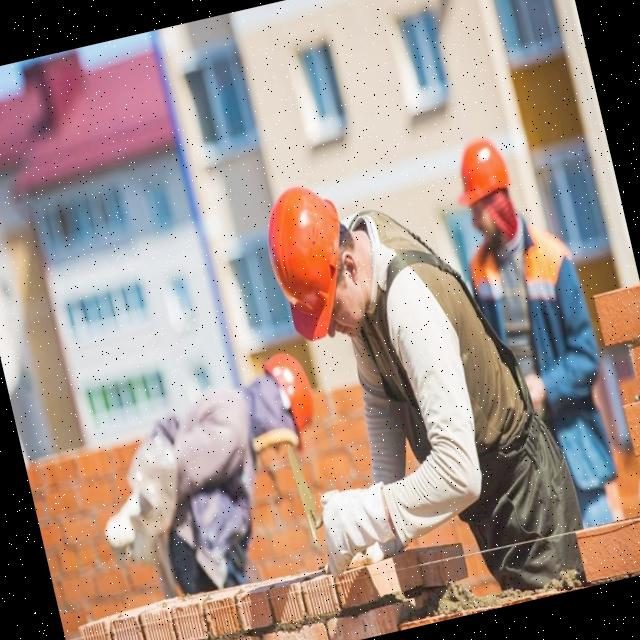Helmet: (254, 180, 369, 345), (259, 347, 326, 451), (444, 132, 518, 220)
Jacket: (473, 207, 593, 400)
NoJacket: (341, 208, 524, 494), (135, 385, 295, 533)
